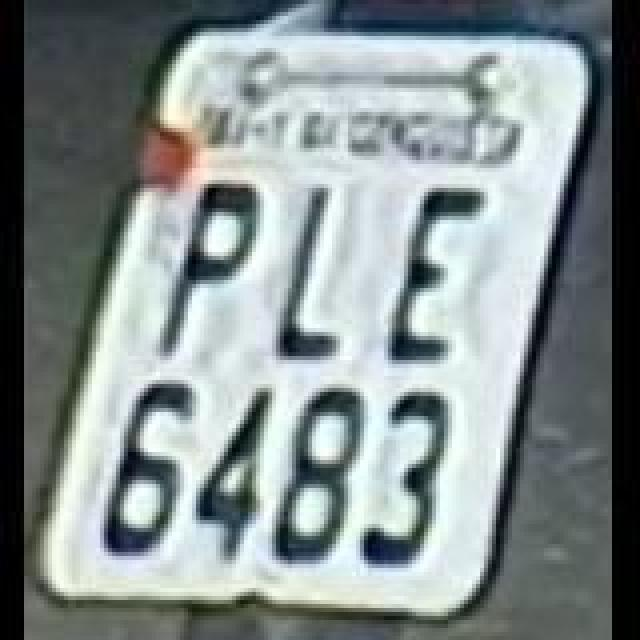3: (362, 388, 454, 572)
4: (192, 386, 272, 558)
6: (100, 380, 196, 556)
8: (274, 390, 366, 570)
E: (384, 182, 488, 362)
L: (278, 184, 346, 360)
P: (158, 174, 258, 354)
